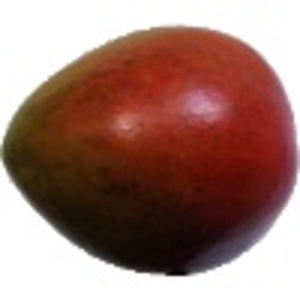manga: (1, 24, 300, 276)
